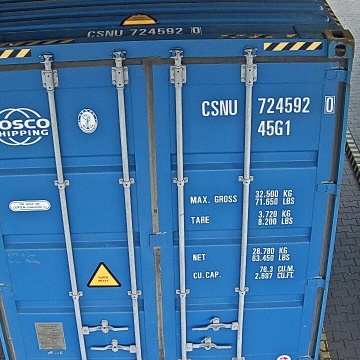serial_id: (202, 96, 334, 116)
